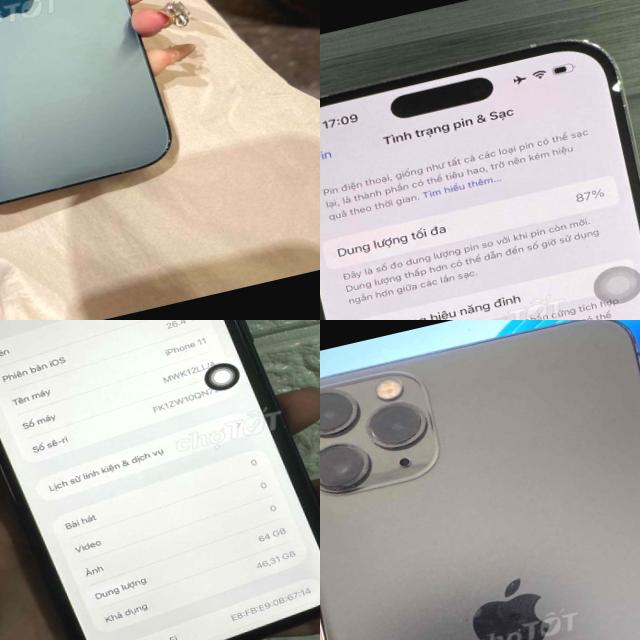scratch: (320, 16, 602, 123), (320, 356, 442, 504)
